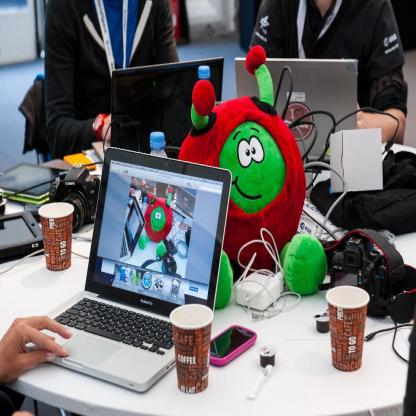board: (24, 148, 232, 394), (92, 59, 224, 162), (236, 59, 357, 164)
